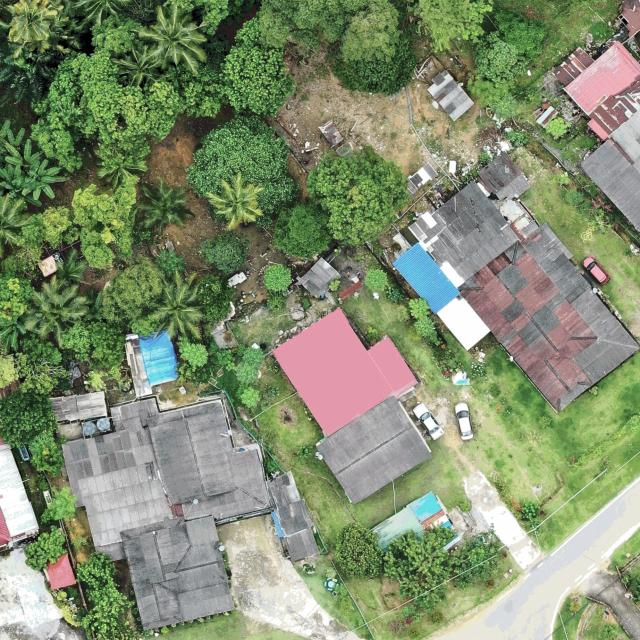Tree: (31, 51, 182, 172), (185, 116, 300, 230), (306, 142, 412, 248), (336, 2, 418, 98), (220, 16, 296, 116), (72, 176, 142, 268), (383, 524, 458, 606), (135, 2, 208, 72), (0, 207, 71, 276), (409, 0, 495, 54), (23, 275, 91, 343), (100, 254, 164, 324), (93, 122, 151, 198), (148, 271, 206, 340), (0, 41, 56, 111), (0, 339, 66, 394), (136, 174, 197, 232), (273, 202, 332, 260), (79, 576, 137, 634), (205, 173, 263, 230), (0, 391, 59, 447), (62, 321, 127, 371), (451, 528, 501, 590), (334, 520, 384, 581), (471, 30, 519, 81), (199, 230, 251, 276), (9, 0, 63, 42), (114, 43, 163, 89), (90, 15, 142, 56), (195, 272, 236, 324), (22, 526, 68, 570), (21, 159, 69, 200), (0, 196, 30, 260), (0, 271, 33, 326), (75, 552, 118, 590), (29, 433, 65, 478), (0, 307, 35, 352), (4, 140, 46, 174), (51, 250, 88, 286), (232, 345, 265, 383), (0, 117, 24, 162), (0, 164, 29, 200), (92, 620, 142, 640), (80, 289, 109, 323), (262, 262, 294, 292), (178, 339, 209, 369), (489, 93, 516, 119), (364, 265, 389, 291), (235, 383, 261, 407), (545, 115, 569, 139), (414, 317, 436, 340), (408, 298, 430, 318), (521, 501, 540, 522)
